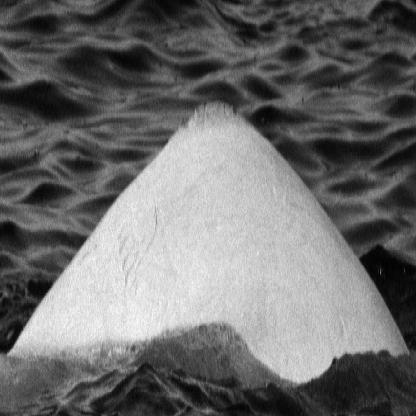dolphin-whale: (4, 90, 412, 378)
